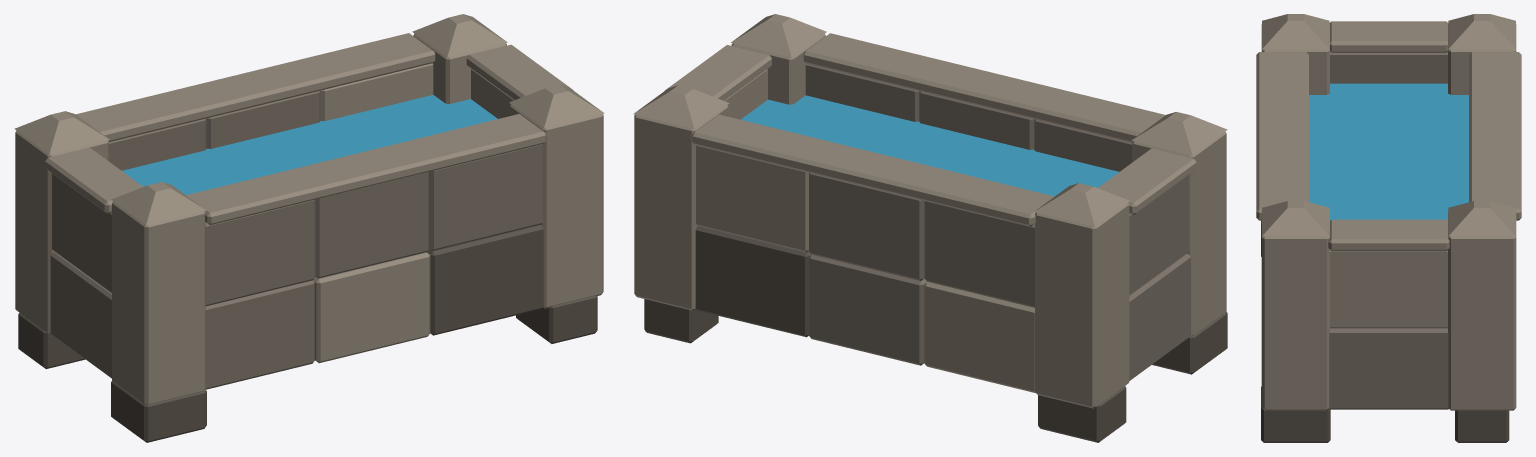
Rendered from mdvl_props_water_trough_01.glb.
3 views of the same model, side by side, from view 1: azimuth 30°, elevation 25°; view 2: azimuth 150°, elevation 25°; view 3: azimuth 270°, elevation 25° (orthographic). The views are drawn at different scales.
Parts seen in each view (by area): view 1: mdvl_props_water_trough_01; view 2: mdvl_props_water_trough_01; view 3: mdvl_props_water_trough_01.
Part boxes in pixels (<box>): mdvl_props_water_trough_01: <box>14,14,604,442</box>; mdvl_props_water_trough_01: <box>633,14,1227,442</box>; mdvl_props_water_trough_01: <box>1256,14,1521,442</box>.
Size of the model in its own units: 1.34 by 0.649 by 0.684.
1 material, 1 textured.
